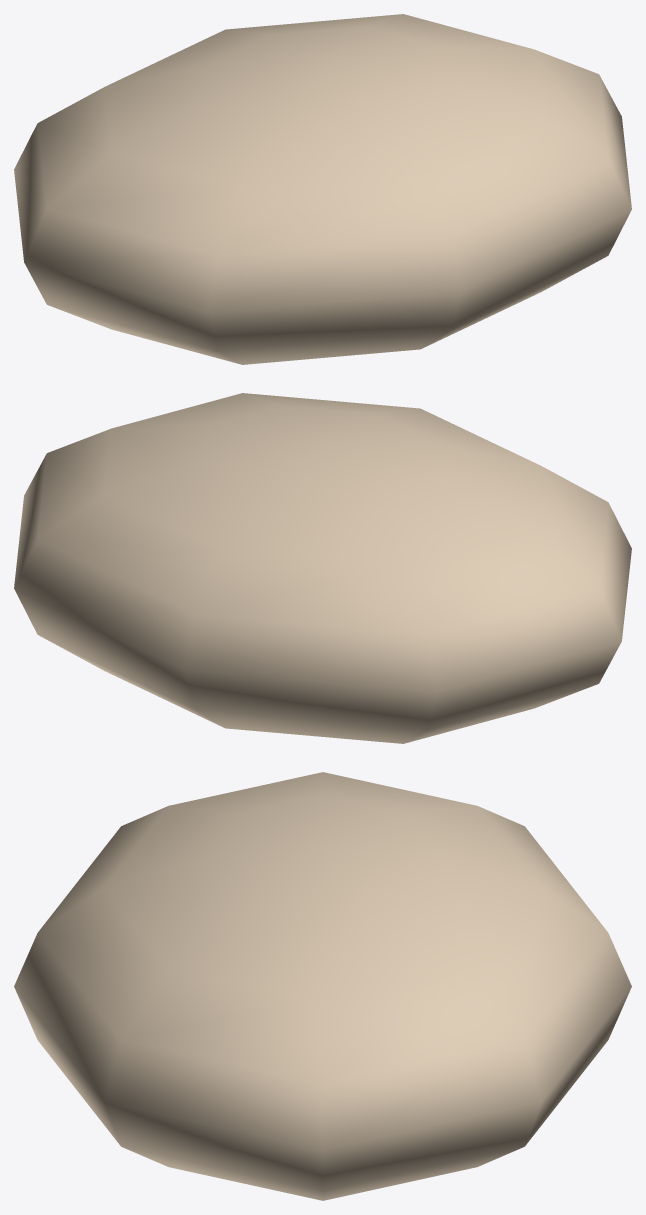
Rendered from reptiles-amphibians-and-minibeasts-basking-rock-61083547__22464.glb.
3 renders of one model, top to bottom at view 1: azimuth 30°, elevation 25°; view 2: azimuth 150°, elevation 25°; view 3: azimuth 270°, elevation 25°, orthographic. The views are drawn at different scales.
Visible parts, largest first — view 1: basking-rock; view 2: basking-rock; view 3: basking-rock.
Boxes of the visible parts, box(x1,y1,x2,y2) form: basking-rock: box(14, 14, 631, 364); basking-rock: box(14, 393, 631, 743); basking-rock: box(14, 772, 631, 1200).
Bounding box in the file's own units: 0.5 × 0.2 × 0.4.
